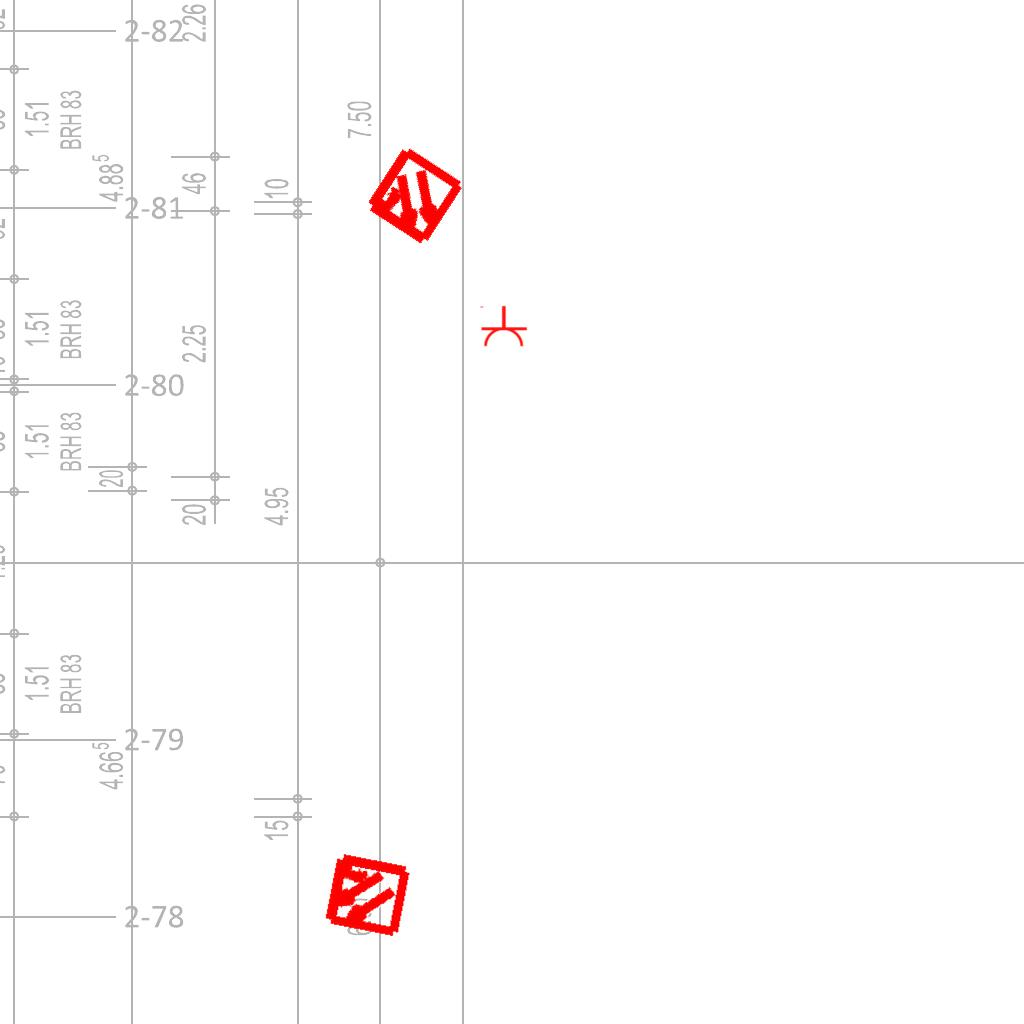OT_Multisensormelder_(Kombination_RMO_WMD): (335, 119, 492, 276), (299, 828, 432, 961)
Schukosteckdose_einfach: (478, 305, 528, 348)
